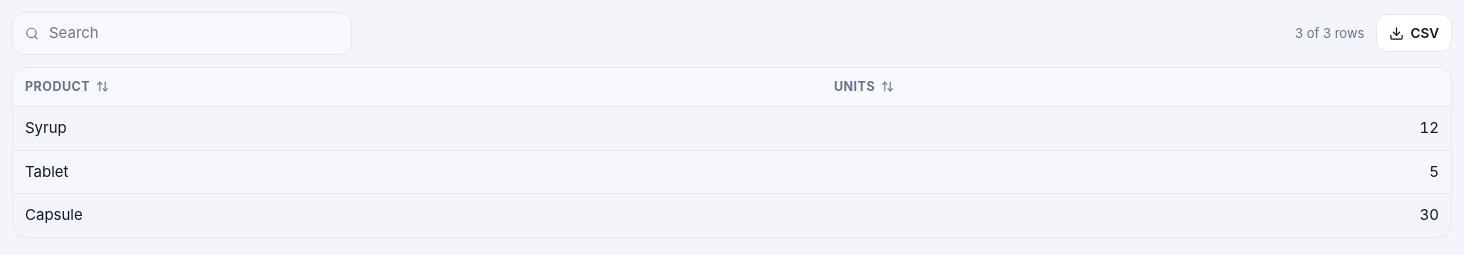
Test: DataTable › filters rows with the search box
Type "tab" into the search field at (193,33), box [47,21,339,46]
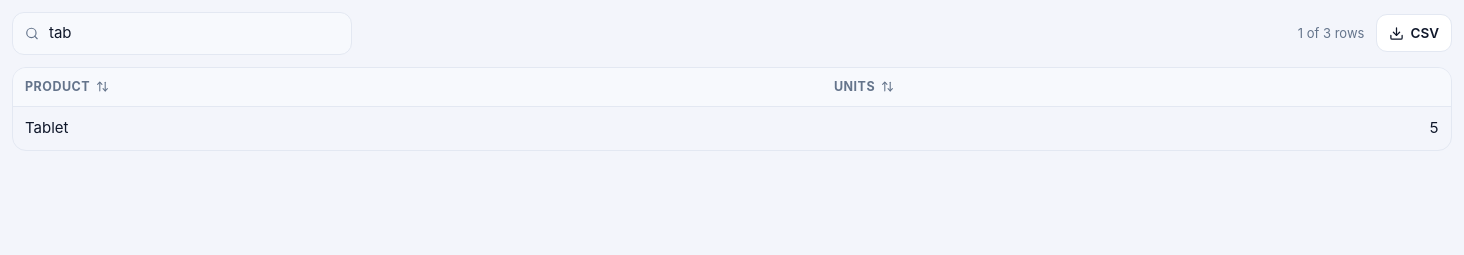
Now the text "1 of 3 rows" is shown, box [1298,24,1364,43]
Now the text "Syrup" is gone
